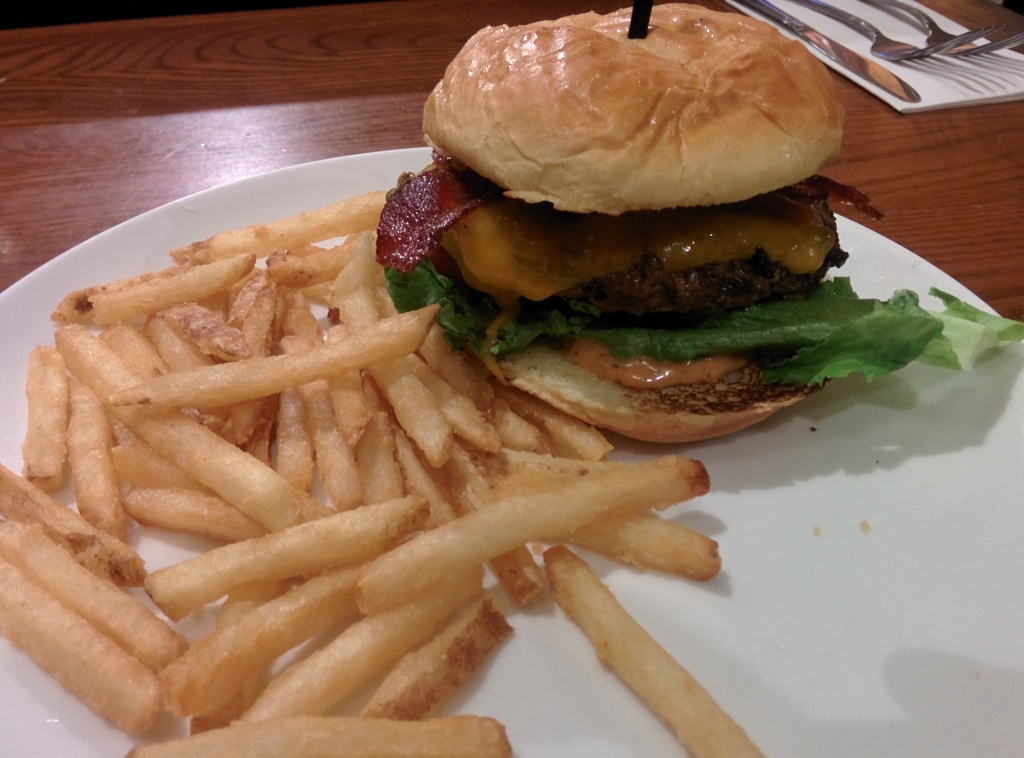French fries: (37, 213, 696, 720)
